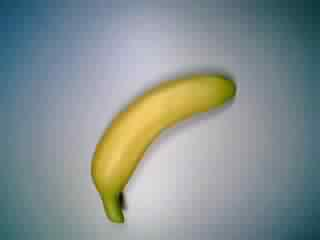banana: (89, 70, 238, 222)
